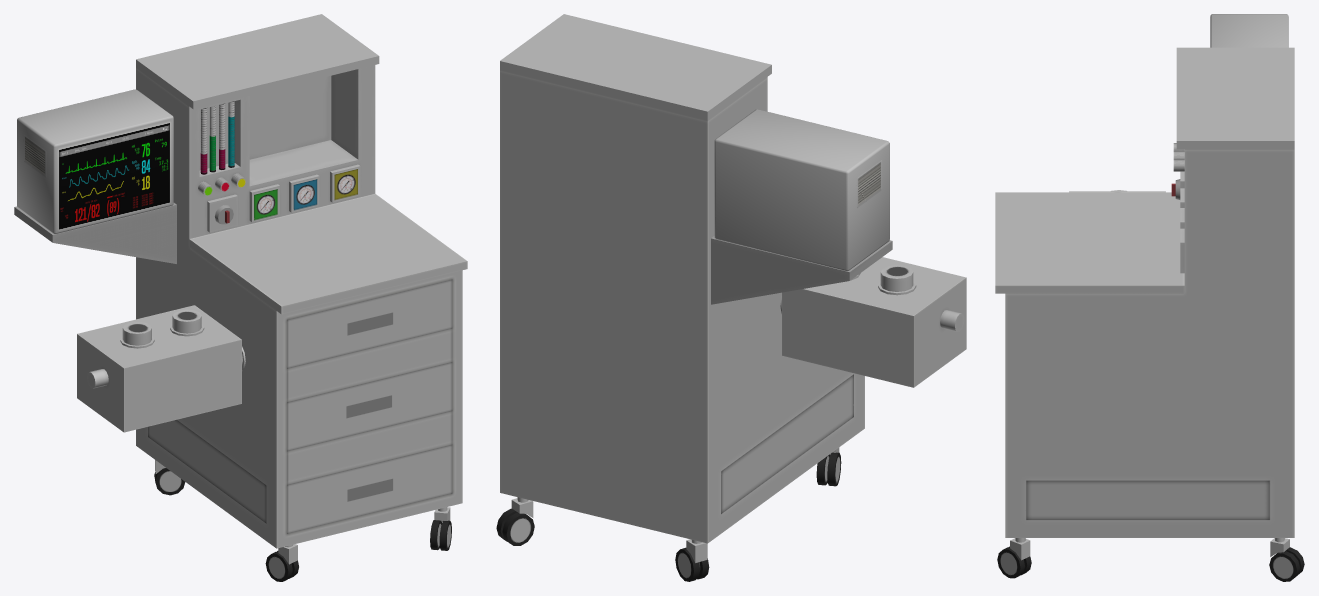
Rendered from ga machine.FBX.
3 renders of one model, left to right at view 1: azimuth 30°, elevation 25°; view 2: azimuth 150°, elevation 25°; view 3: azimuth 270°, elevation 25°, orthographic. The views are drawn at different scales.
Parts seen in each view (by area): view 1: ga machine; view 2: ga machine; view 3: ga machine.
Part boxes in pixels (x1=…): ga machine: x1=14, y1=14, x2=467, y2=581; ga machine: x1=496, y1=14, x2=966, y2=581; ga machine: x1=995, y1=14, x2=1304, y2=581.
Size of the model in its own units: 34.21 by 27.63 by 43.66.
